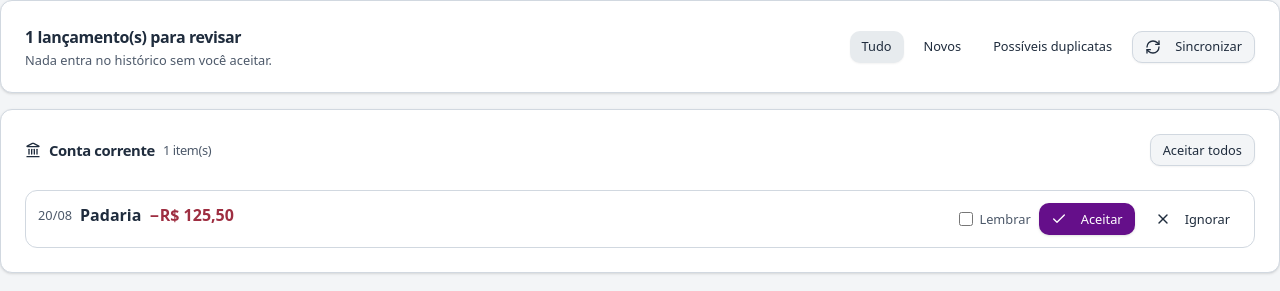
Test: ImportView › ignores an entry
Click the button "Ignorar" at (1192, 219), box top-left (1143, 203), bottom-right (1242, 235)
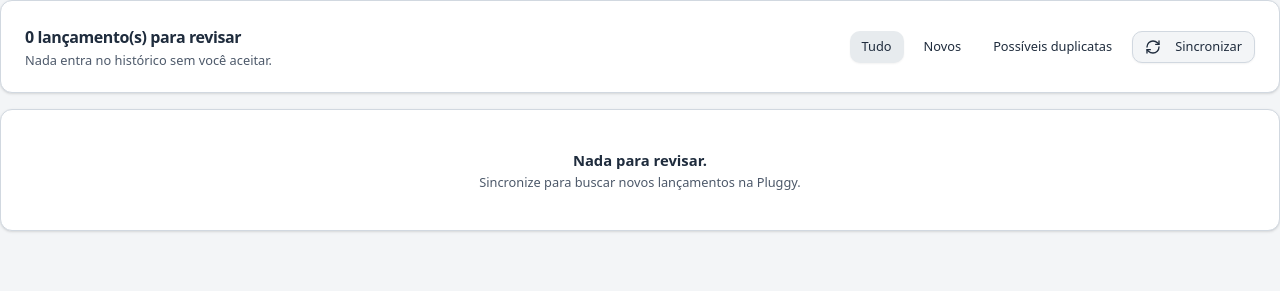
Expected: the text "Padaria" is gone
